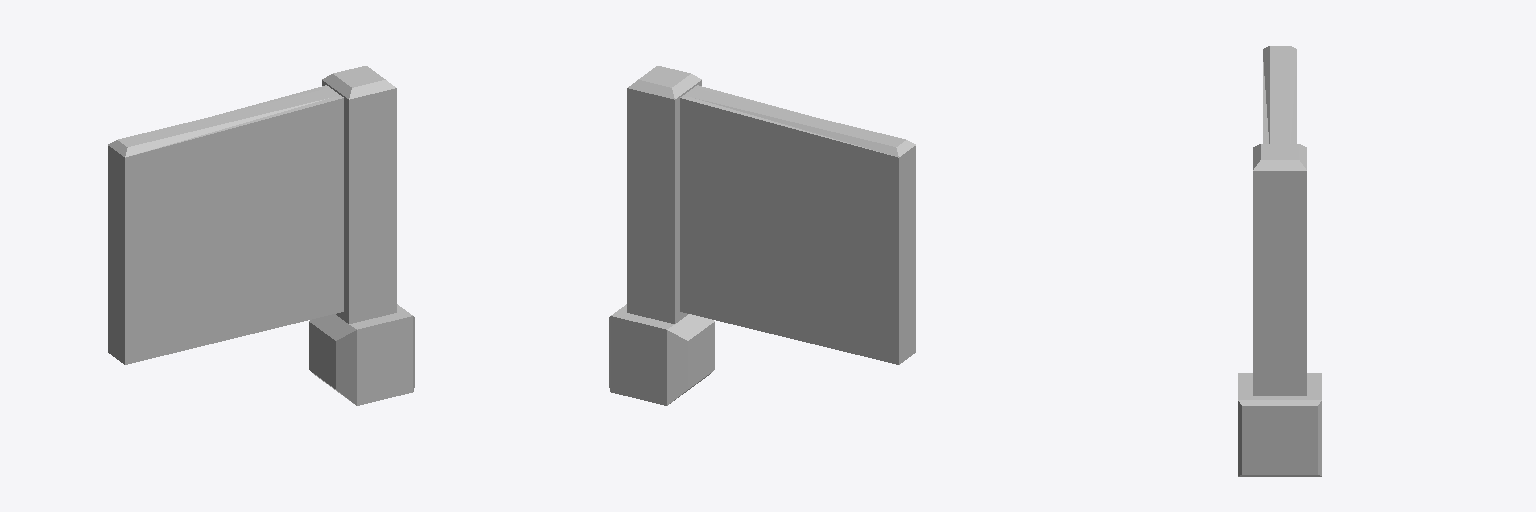
The model's file is testobj.obj.
The picture shows the model from 3 angles: view 1: azimuth 30°, elevation 25°; view 2: azimuth 150°, elevation 25°; view 3: azimuth 270°, elevation 25°; orthographic projection.
Parts seen in each view (by area): view 1: Cube; view 2: Cube; view 3: Cube.
Part boxes in pixels (bbox=[...]): Cube: bbox=[108, 66, 414, 405]; Cube: bbox=[609, 66, 915, 405]; Cube: bbox=[1238, 46, 1321, 476].
Bounding box in the file's own units: 7.65 × 8.07 × 2.